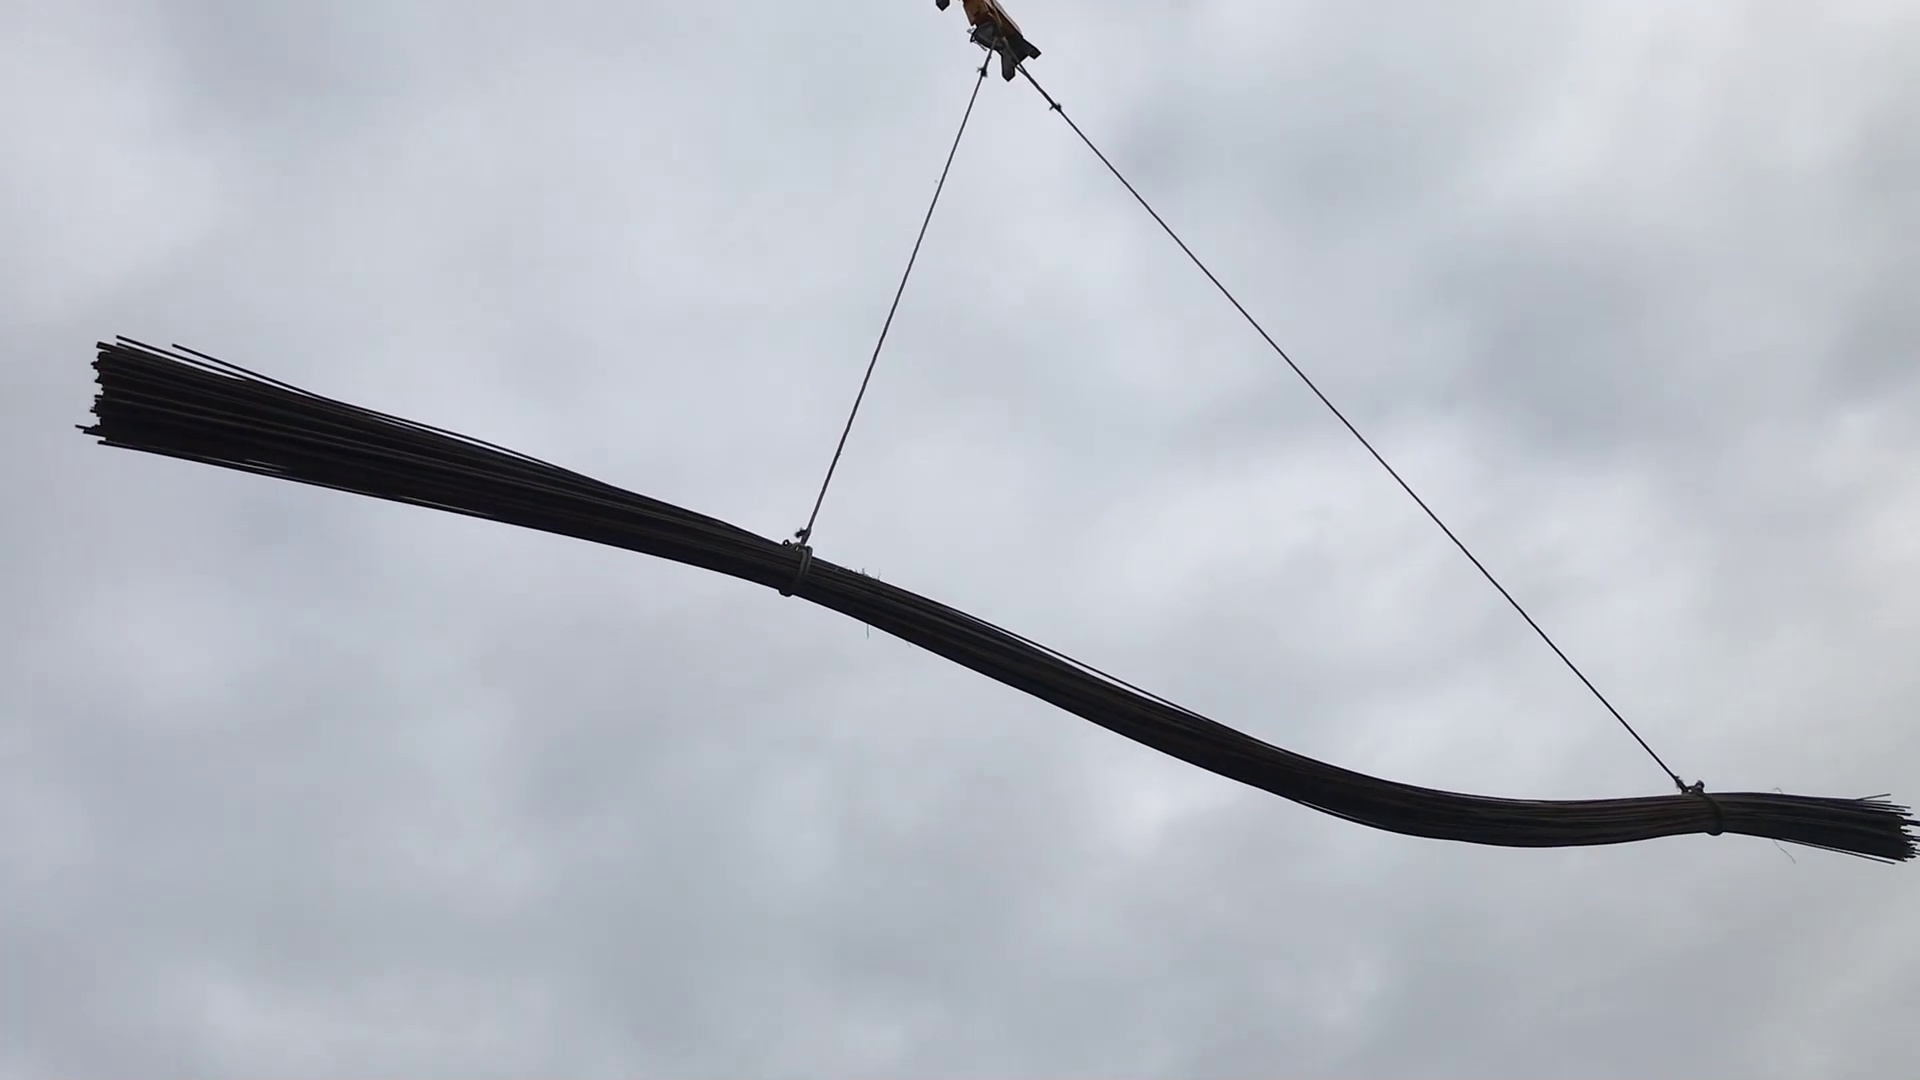rebar: (63, 320, 1919, 920)
